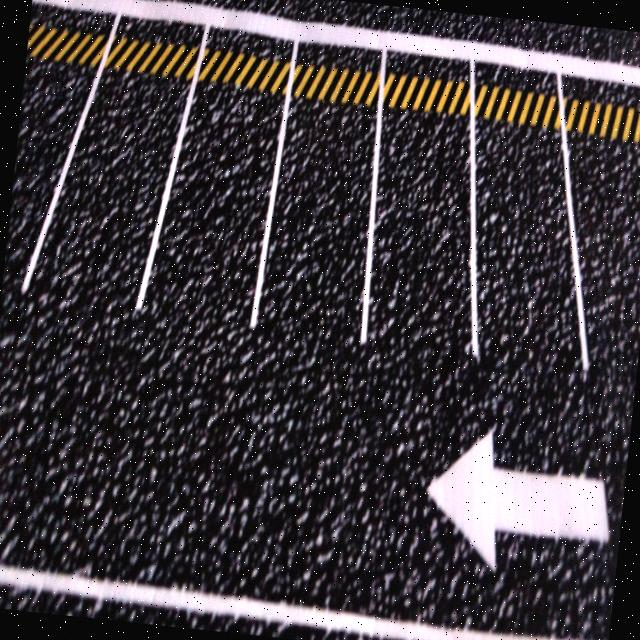slots: (21, 63, 189, 329), (145, 80, 282, 348), (258, 85, 377, 358), (476, 116, 581, 425), (368, 106, 471, 348), (570, 136, 640, 380)
